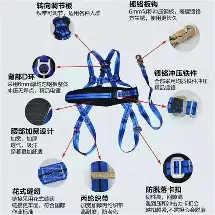safety belt: (63, 44, 161, 155)
